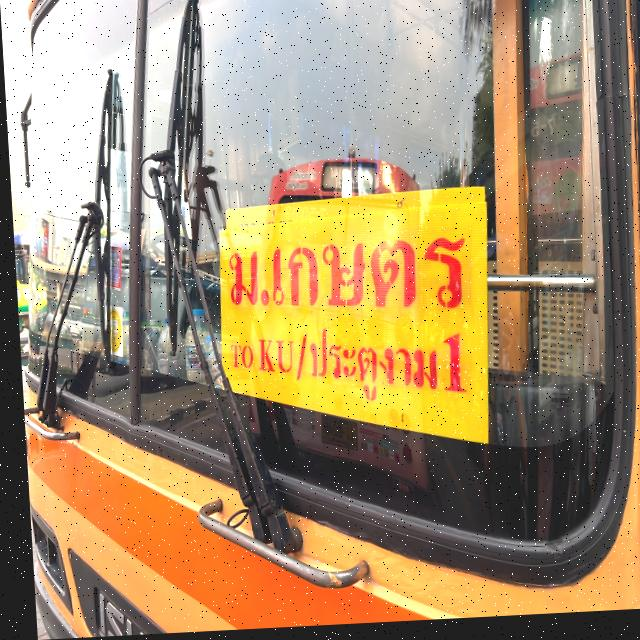BMTA-bus: (0, 0, 640, 640)
Destination-Sign-Extra-Bus-Expressway: (211, 192, 488, 466)
